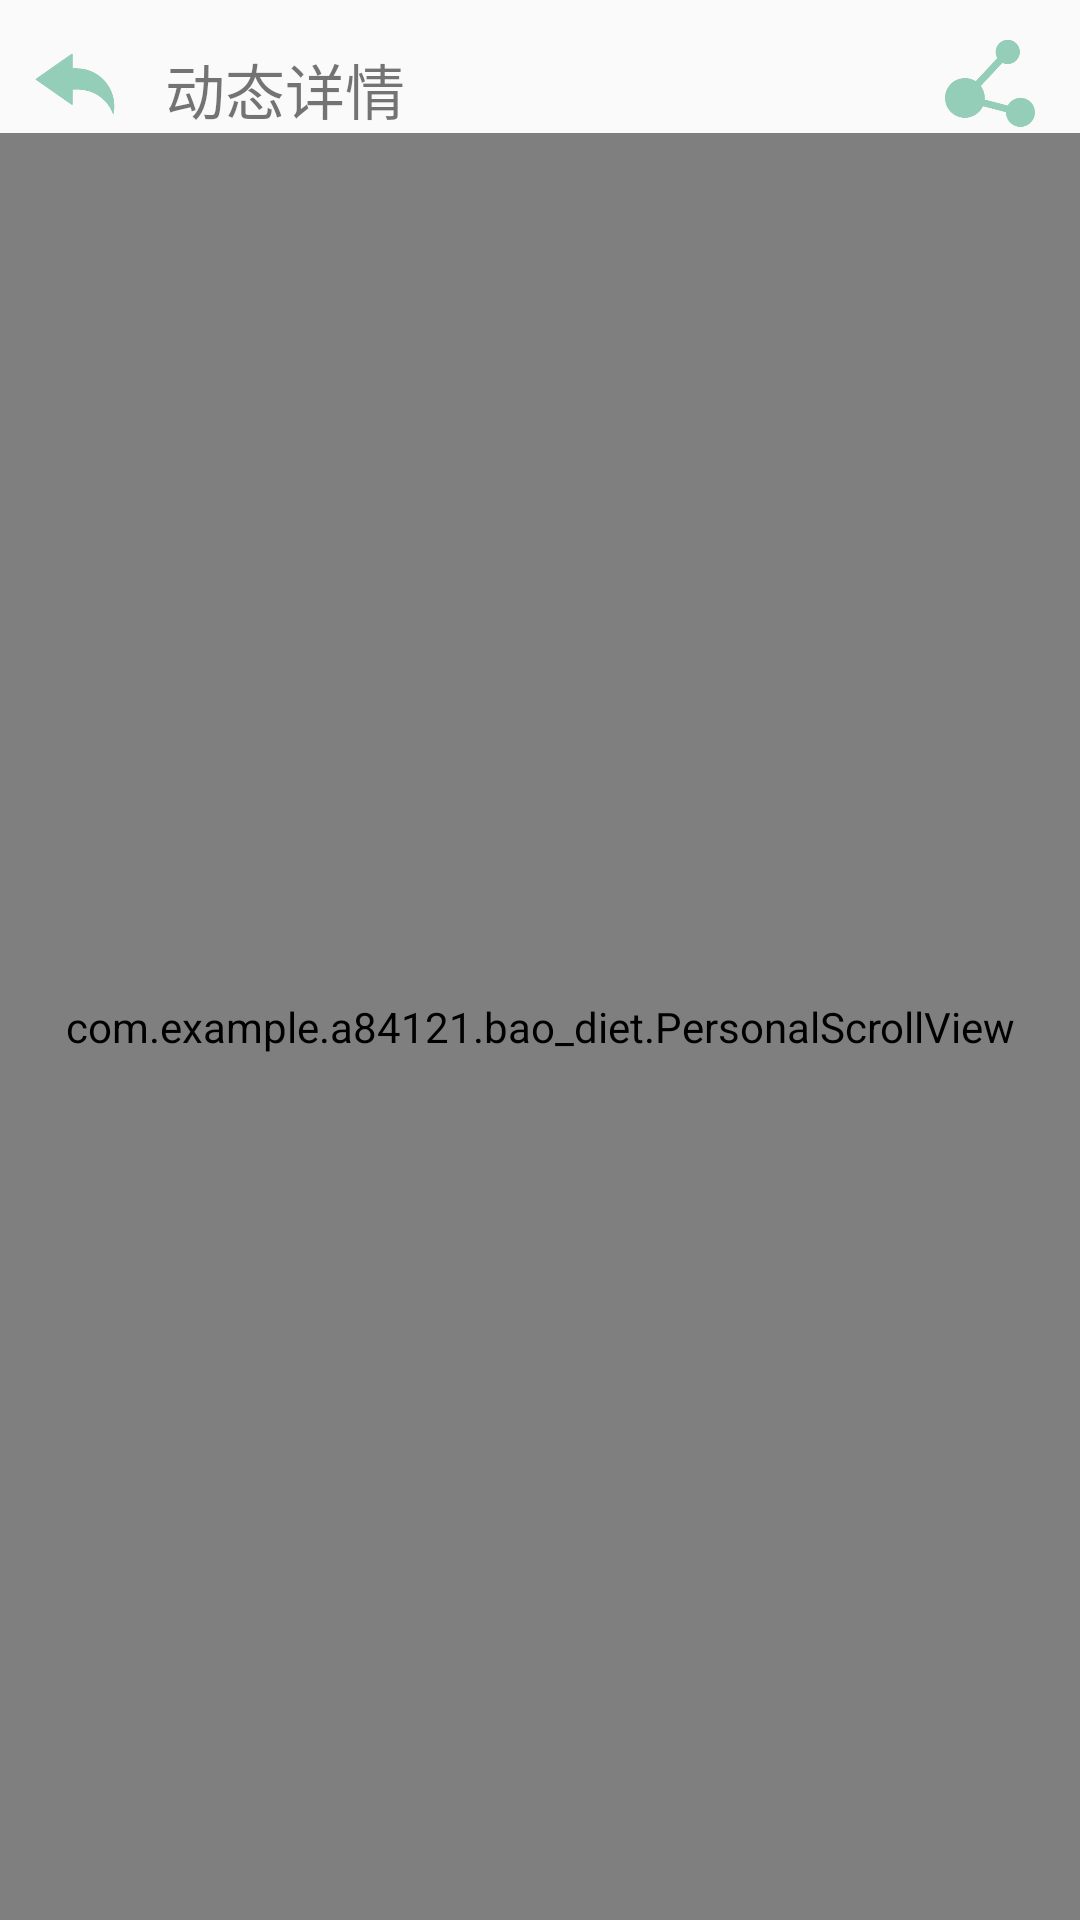

Icons on this 1080×1920 Android screen, each with the point to tap as [x,y]:
back: [75,84]
share: [990,83]
